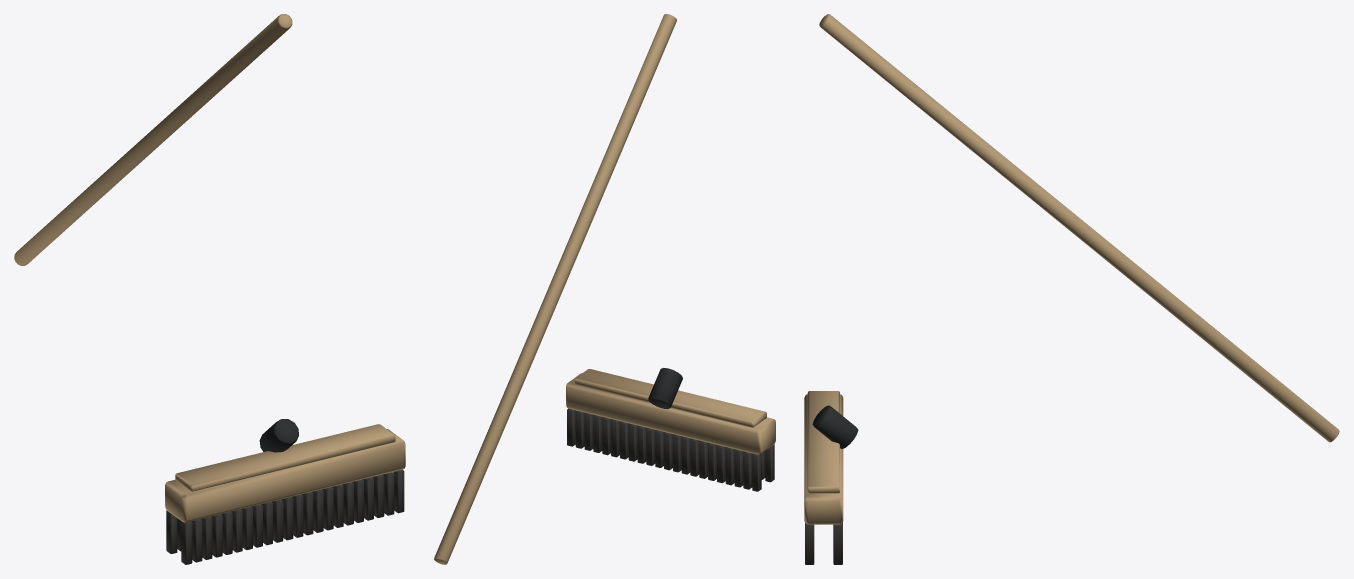
The model's file is asset_074_broom_fp.glb.
3 renders of one model, left to right at view 1: azimuth 30°, elevation 25°; view 2: azimuth 150°, elevation 25°; view 3: azimuth 270°, elevation 25°, orthographic. The views are drawn at different scales.
Visible parts, largest first — view 1: MESH_BroomBristles, MESH_BroomBlock, MESH_BroomHandle, MESH_BroomBlockCap, MESH_BroomFerrule; view 2: MESH_BroomHandle, MESH_BroomBristles, MESH_BroomBlock, MESH_BroomBlockCap, MESH_BroomFerrule; view 3: MESH_BroomHandle, MESH_BroomBlockCap, MESH_BroomBlock, MESH_BroomFerrule, MESH_BroomBristles.
Boxes of the visible parts, x1,y1,x2,y2 form: MESH_BroomBristles: [166, 469, 404, 564]; MESH_BroomBlock: [165, 429, 405, 522]; MESH_BroomHandle: [14, 14, 292, 265]; MESH_BroomBlockCap: [175, 424, 395, 491]; MESH_BroomFerrule: [259, 419, 298, 452]; MESH_BroomHandle: [434, 14, 676, 564]; MESH_BroomBristles: [567, 408, 774, 491]; MESH_BroomBlock: [566, 373, 775, 454]; MESH_BroomBlockCap: [574, 369, 766, 427]; MESH_BroomFerrule: [648, 368, 682, 409]; MESH_BroomHandle: [819, 14, 1339, 442]; MESH_BroomBlockCap: [807, 391, 839, 493]; MESH_BroomBlock: [804, 394, 843, 524]; MESH_BroomFerrule: [812, 405, 858, 448]; MESH_BroomBristles: [805, 522, 842, 564].
Size of the model in its own units: 0.48 by 1.06 by 1.03.
